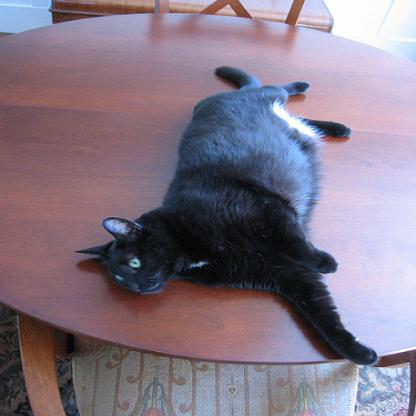cat: (75, 63, 378, 364)
chair: (154, 0, 306, 26)
diningtable: (0, 13, 415, 415)
